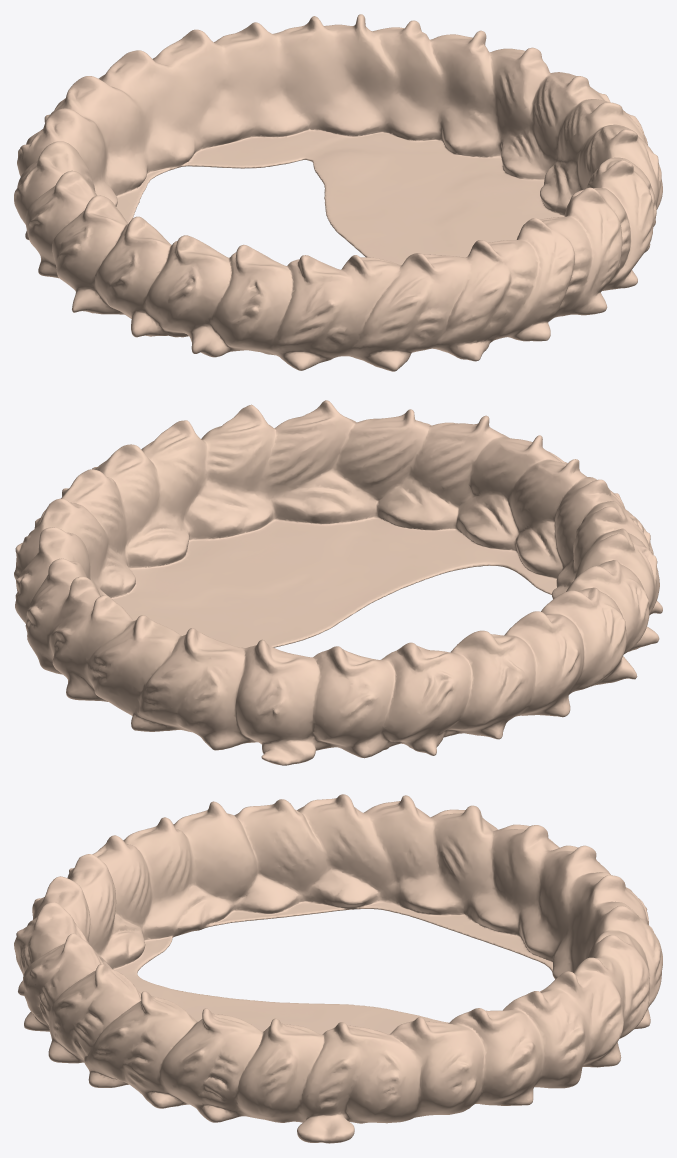
File: collar_ref.glb
3 views of the same model, one above another, from view 1: azimuth 30°, elevation 25°; view 2: azimuth 150°, elevation 25°; view 3: azimuth 270°, elevation 25° (orthographic).
Bounding box in the file's own units: 1 × 0.1768 × 0.9966.
1 material, 1 textured.
